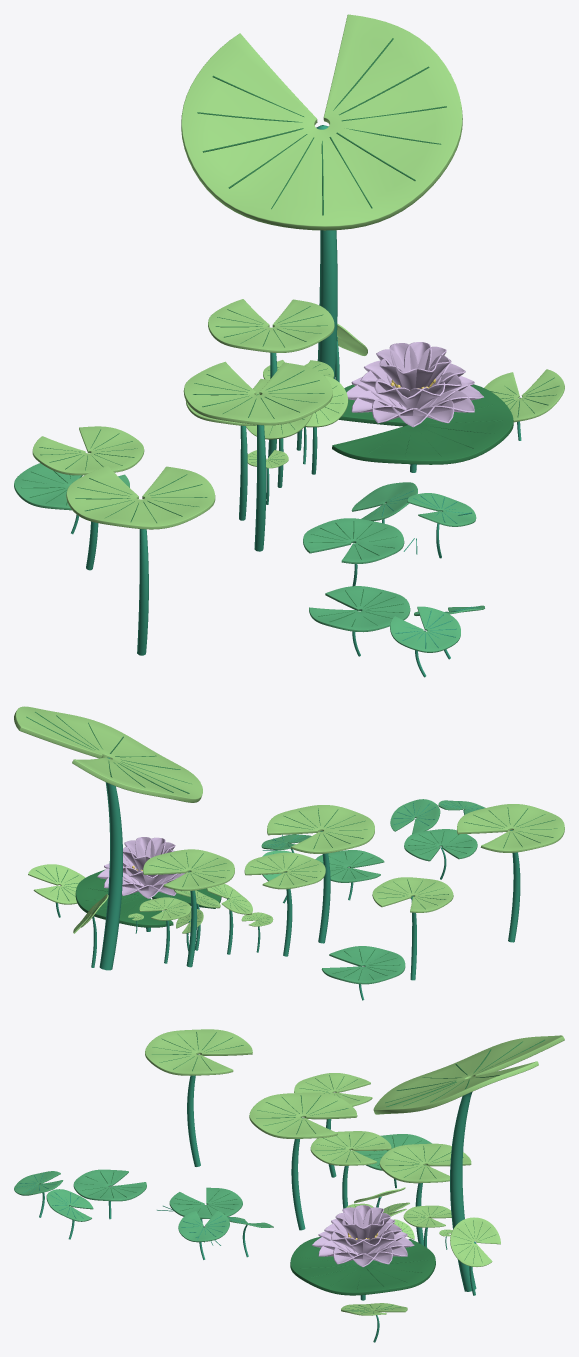
The model's file is lotus_and_lilypads005.glb.
3 renders of one model, top to bottom at view 1: azimuth 30°, elevation 25°; view 2: azimuth 150°, elevation 25°; view 3: azimuth 270°, elevation 25°, orthographic. The views are drawn at different scales.
Visible parts, largest first — view 1: LilyPad_02.026, LotusPad.007, LilyPad_02.016, LilyPad_02.017, LilyPad_02.025, LilyPad_02.028, LilyPad_03.006, LilyPad_03.005, LilyPad_04.008, LilyPad_05.007, PadStem_02.026, LilyPad_01.010 (+5 smaller); view 2: LilyPad_02.026, LilyPad_02.016, LilyPad_02.017, LilyPad_02.025, PadStem_02.026, LotusPad.007, LilyPad_01.010, LilyPad_02.021, LilyPad_02.028, LilyPad_03.005, LilyPad_04.008, LilyPad_03.006 (+10 smaller); view 3: LilyPad_02.026, LotusPad.007, LilyPad_02.017, LilyPad_02.016, LilyPad_02.025, LilyPad_02.021, PadStem_02.026, LilyPad_02.024, LilyPad_03.005, LilyPad_03.006, LilyPad_02.028, LilyPad_05.009 (+7 smaller).
Part boxes in pixels (x1,y1,x2,y2): LilyPad_02.026: (181, 14, 462, 230); LotusPad.007: (332, 384, 513, 464); LilyPad_02.016: (66, 466, 215, 529); LilyPad_02.017: (183, 361, 332, 425); LilyPad_02.025: (208, 299, 334, 352); LilyPad_02.028: (32, 426, 144, 475); LilyPad_03.006: (303, 518, 404, 563); LilyPad_03.005: (309, 586, 410, 632); LilyPad_04.008: (484, 369, 564, 422); LilyPad_05.007: (390, 606, 460, 652); PadStem_02.026: (316, 125, 337, 378); LilyPad_01.010: (14, 463, 129, 510); LilyPad_02.026: (14, 706, 202, 802); LilyPad_02.016: (457, 804, 564, 852); LilyPad_02.017: (267, 805, 374, 853); LilyPad_02.025: (143, 849, 234, 890); PadStem_02.026: (99, 757, 122, 970); LotusPad.007: (75, 869, 221, 927); LilyPad_01.010: (321, 946, 405, 984); LilyPad_02.021: (244, 852, 325, 889); LilyPad_02.028: (372, 877, 453, 912); LilyPad_03.005: (404, 829, 477, 861); LilyPad_04.008: (28, 864, 85, 904); LilyPad_03.006: (315, 850, 384, 882); LilyPad_02.026: (373, 1035, 564, 1114); LotusPad.007: (290, 1237, 435, 1295); LilyPad_02.017: (249, 1092, 357, 1138); LilyPad_02.016: (145, 1029, 252, 1075); LilyPad_02.025: (379, 1143, 471, 1183); LilyPad_02.021: (310, 1131, 391, 1165); PadStem_02.026: (450, 1092, 476, 1291); LilyPad_02.024: (450, 1217, 500, 1266); LilyPad_03.005: (73, 1169, 146, 1201); LilyPad_03.006: (169, 1187, 242, 1218); LilyPad_02.028: (294, 1073, 372, 1106); LilyPad_05.009: (178, 1210, 229, 1242).
Bounding box in the file's own units: 9.35 × 5.34 × 10.21.
